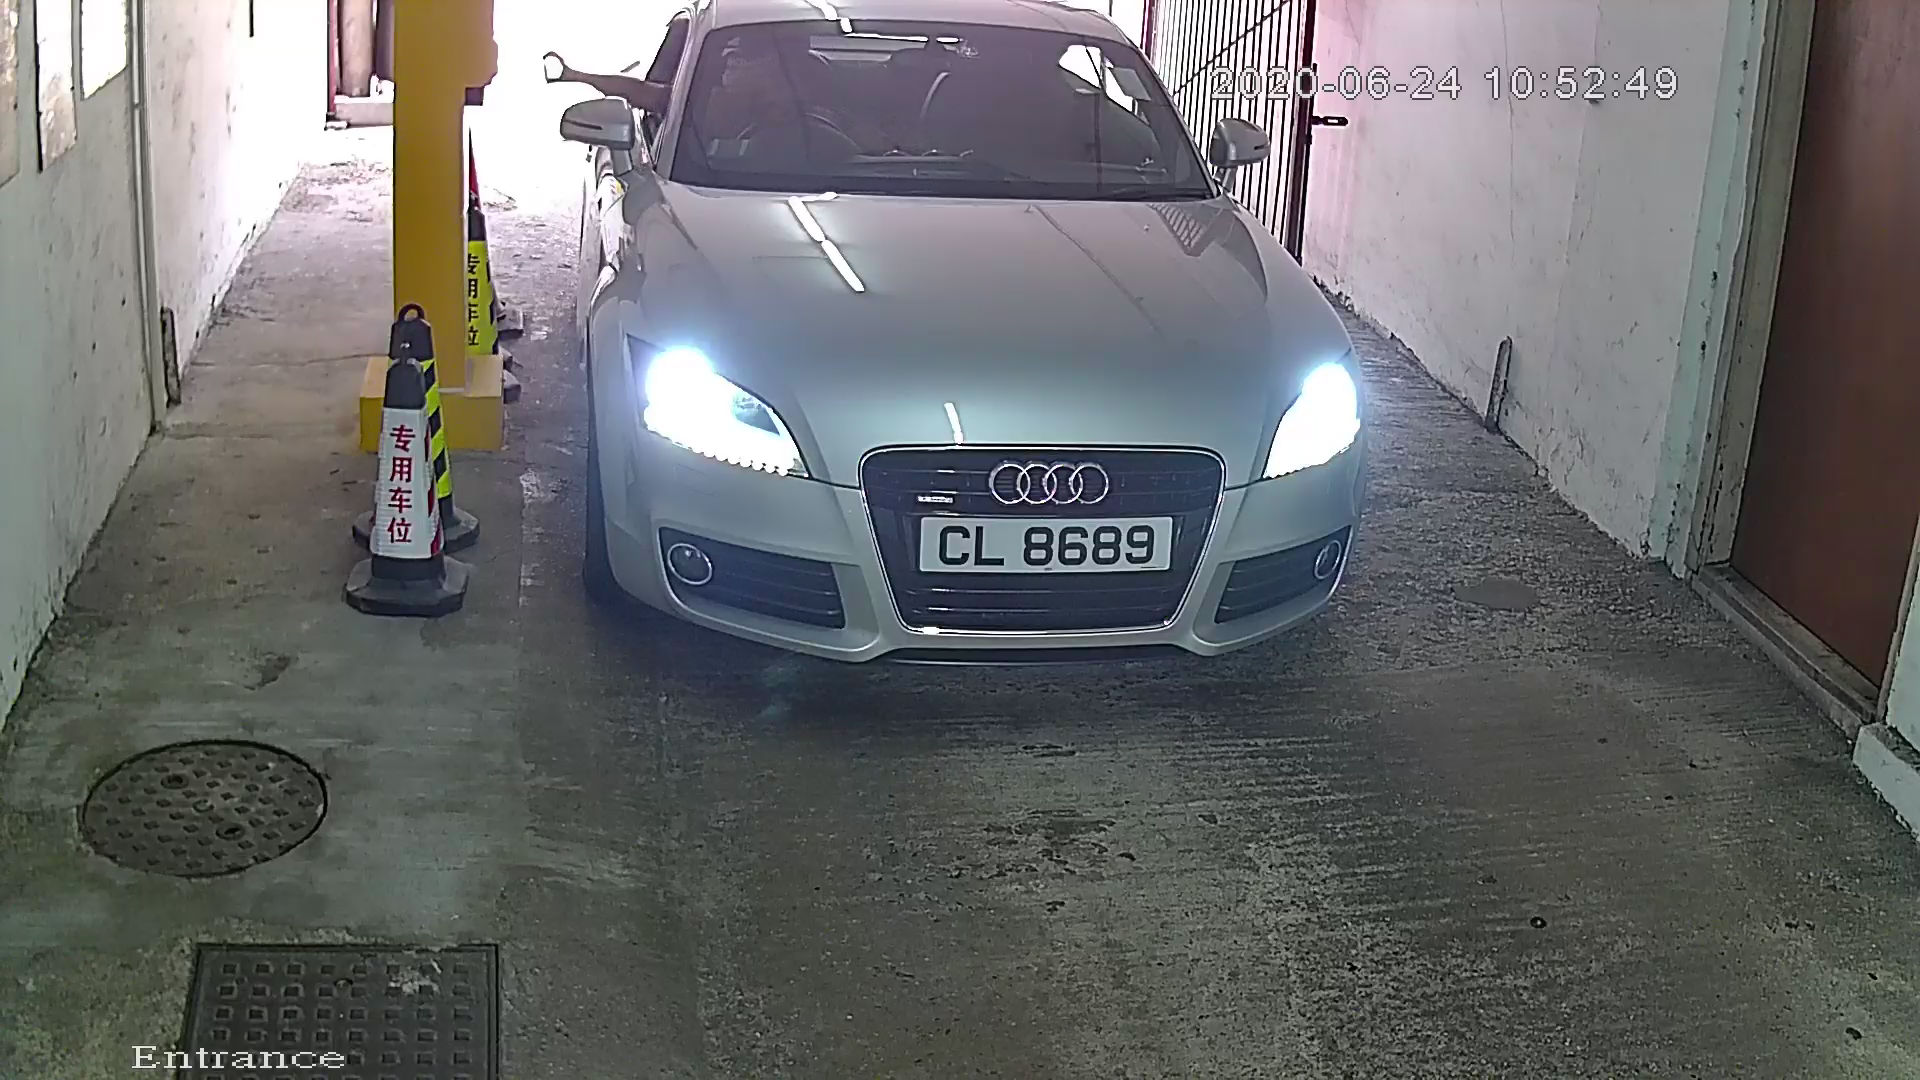Car: (532, 1, 1397, 750)
License Plate: (917, 507, 1182, 590)
